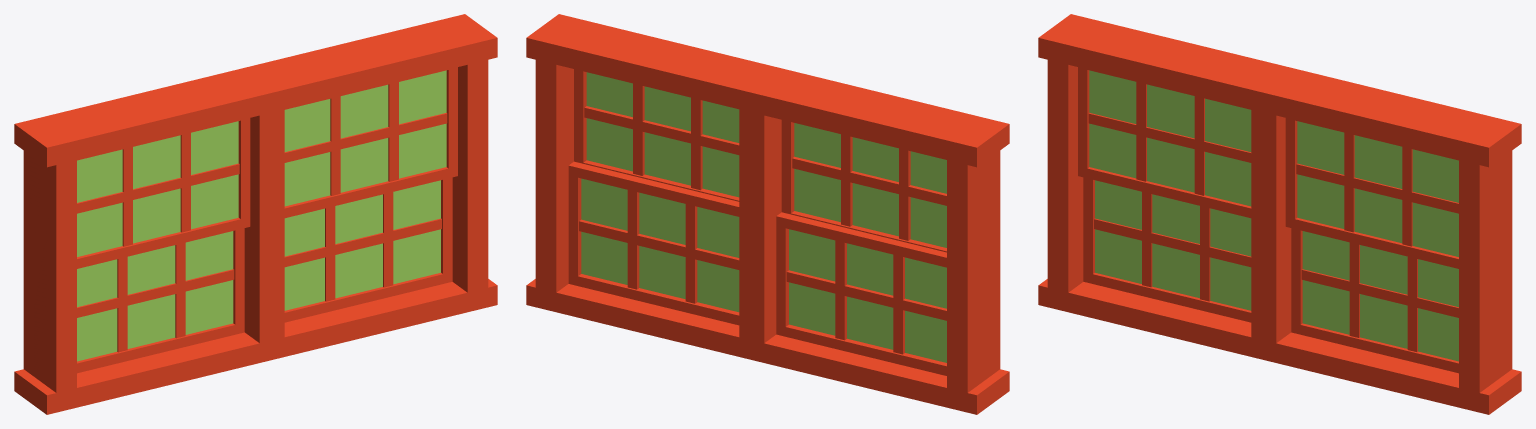
File: SM_Window_Sliding_B_Survival.fbx
3 renders of one model, left to right at view 1: azimuth 30°, elevation 25°; view 2: azimuth 150°, elevation 25°; view 3: azimuth 330°, elevation 25°, orthographic.
Parts seen in each view (by area): view 1: window-sliding-b-frame-survival, window-sliding-b-window-r-survival, window-sliding-b-window-l-survival; view 2: window-sliding-b-frame-survival, window-sliding-b-window-r-survival, window-sliding-b-window-l-survival; view 3: window-sliding-b-frame-survival, window-sliding-b-window-l-survival, window-sliding-b-window-r-survival.
Part boxes in pixels (x1,y1,x2,y2): window-sliding-b-frame-survival: (14,14,497,414); window-sliding-b-window-r-survival: (284,177,452,322); window-sliding-b-window-l-survival: (77,228,244,373); window-sliding-b-frame-survival: (526,14,1009,414); window-sliding-b-window-r-survival: (568,161,739,325); window-sliding-b-window-l-survival: (776,212,946,375); window-sliding-b-frame-survival: (1038,14,1521,414); window-sliding-b-window-l-survival: (1083,177,1251,322); window-sliding-b-window-r-survival: (1291,228,1458,373).
Size of the model in its own units: 2.4 by 1.36 by 0.3.
